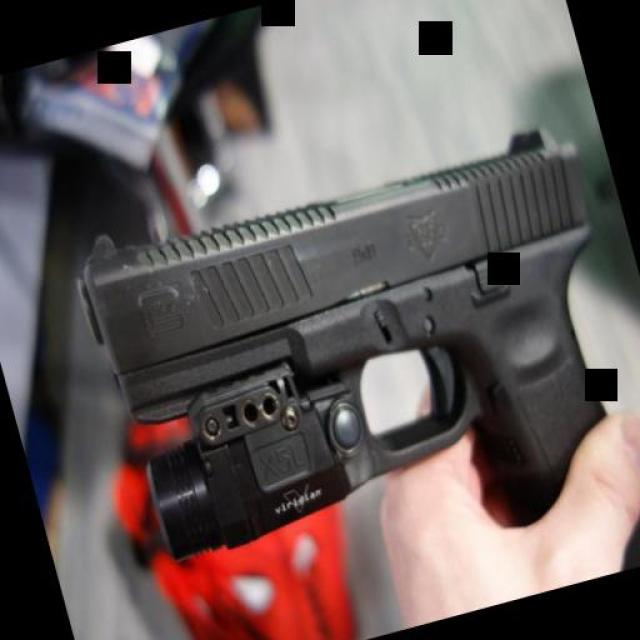gun: (62, 106, 640, 640)
